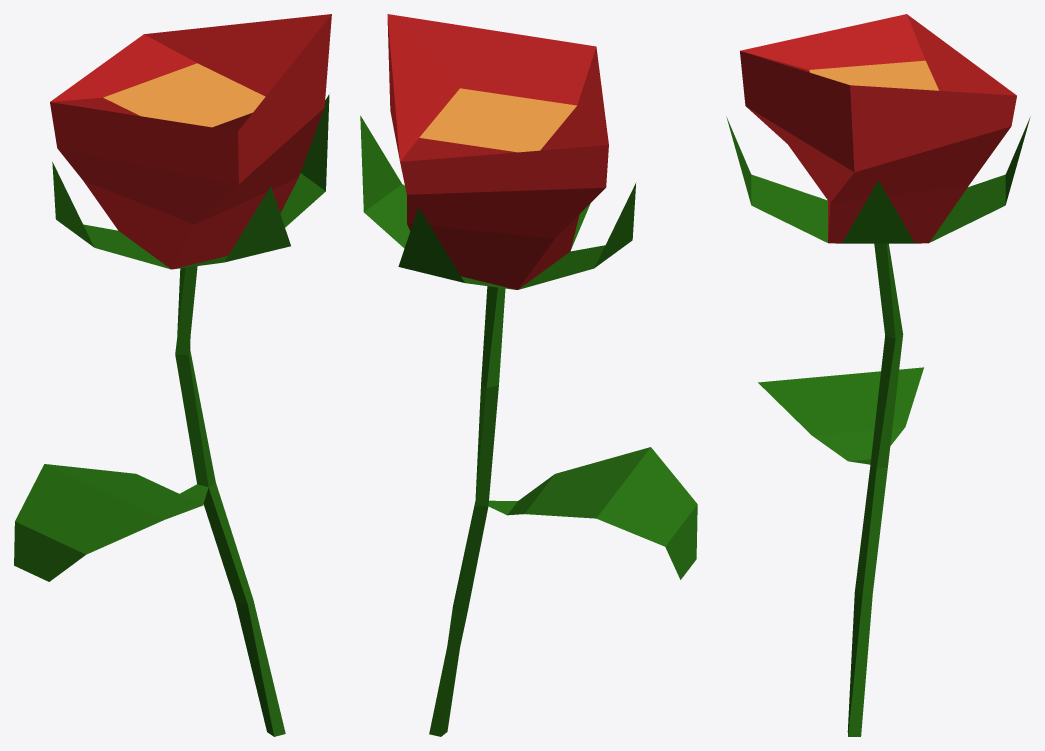
The model's file is flor_3.fbx.
3 renders of one model, left to right at view 1: azimuth 30°, elevation 25°; view 2: azimuth 150°, elevation 25°; view 3: azimuth 270°, elevation 25°, orthographic. The views are drawn at different scales.
Parts seen in each view (by area): view 1: flower3; view 2: flower3; view 3: flower3.
Boxes of the visible parts, left/top/right/bottom form: flower3: left=14, top=14, right=331, bottom=736; flower3: left=360, top=14, right=697, bottom=736; flower3: left=726, top=14, right=1030, bottom=736.
Size of the model in its own units: 28.56 by 60.62 by 24.85.
